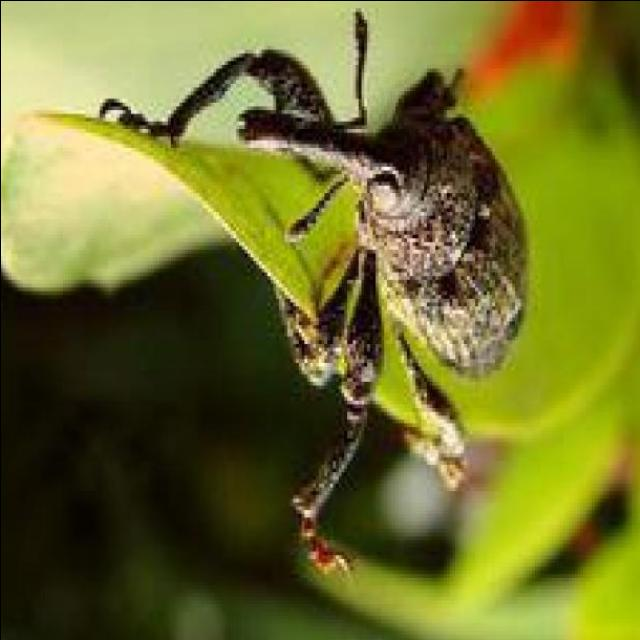ricebug: (237, 52, 525, 536), (392, 327, 463, 488)
